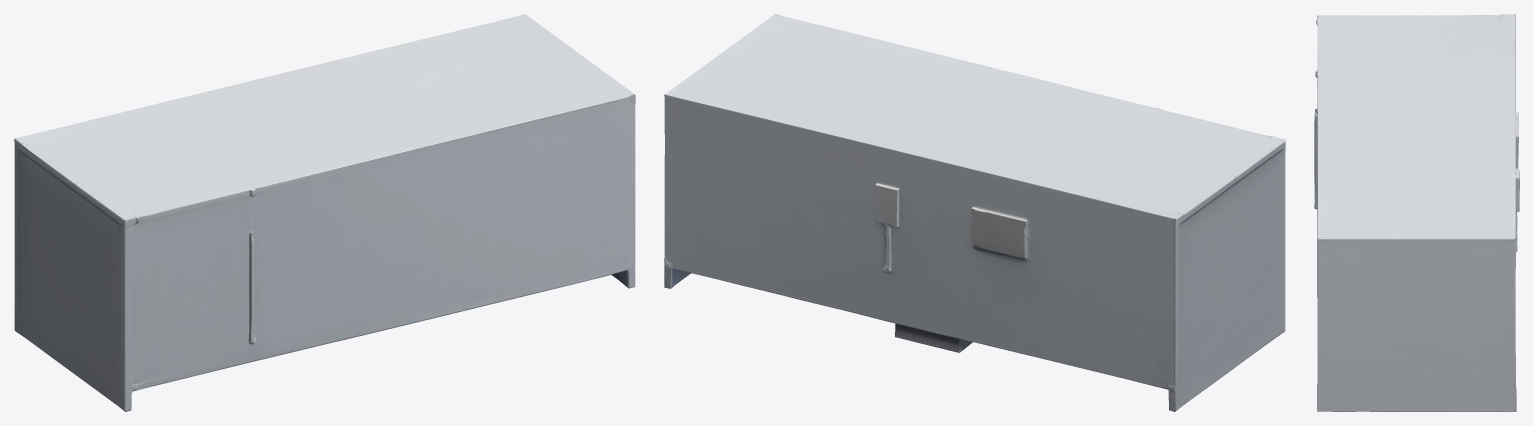
Rendered from d0b7fc4b-50b1-4803-9bb4-6efb1d7e09c6.glb.
3 views of the same model, side by side, from view 1: azimuth 30°, elevation 25°; view 2: azimuth 150°, elevation 25°; view 3: azimuth 270°, elevation 25° (orthographic). The views are drawn at different scales.
Parts seen in each view (by area): view 1: world; view 2: world; view 3: world.
Part boxes in pixels (x1,y1,x2,y2): world: (14,14,635,411); world: (664,14,1285,411); world: (1314,14,1519,411).
Size of the model in its own units: 1 by 0.364 by 0.3871.
Materials: 1 (1 with a texture image).
